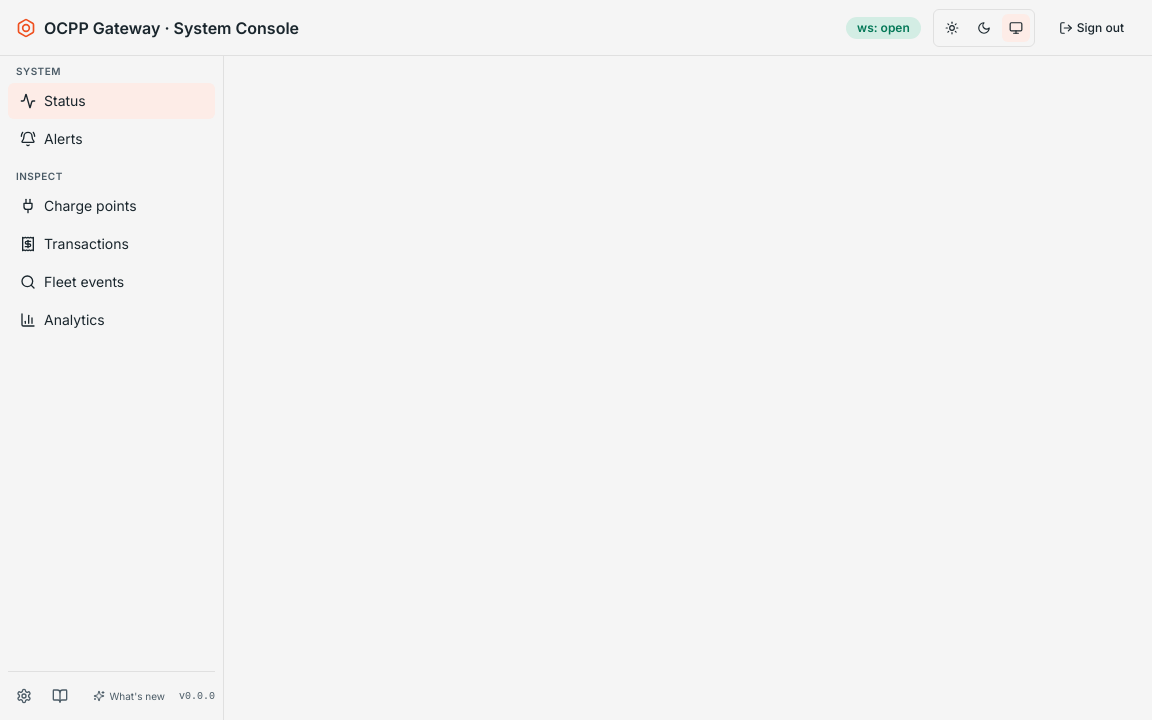
AppShell — sign-out confirmation › clicking Sign out opens the dialog without ending the session
The image size is (1152, 720).
Click the button with test id "signout-button". click: (1091, 28)
box: [1047,10,1136,46]
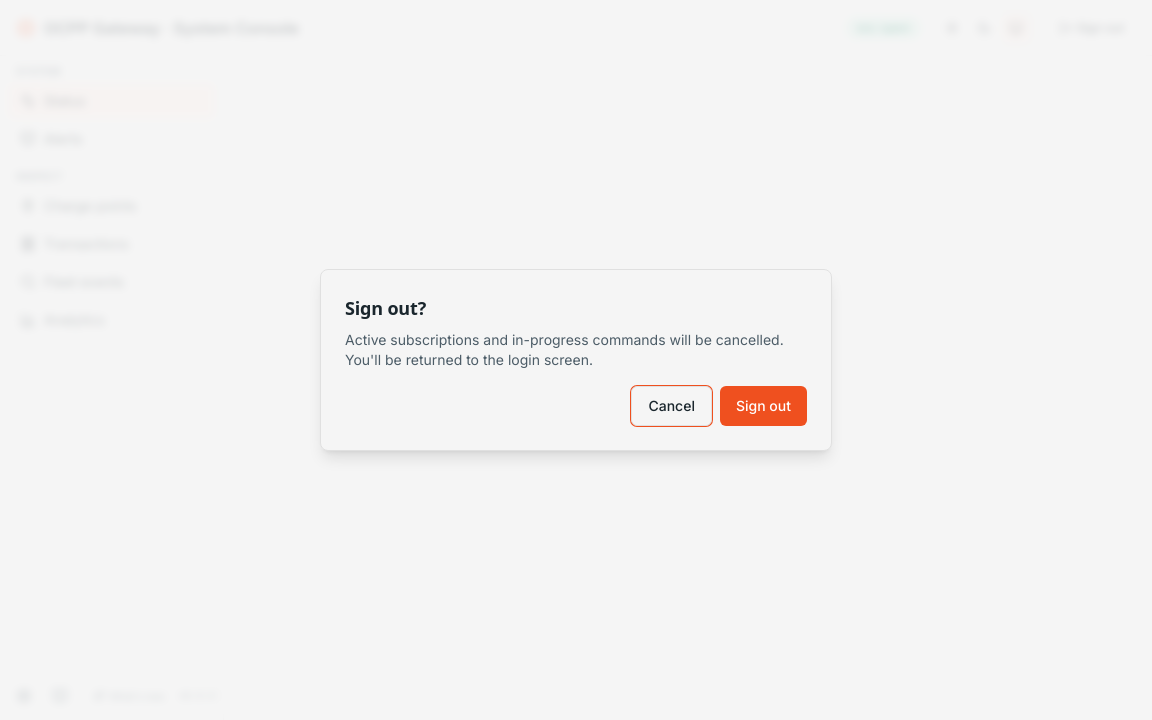
Expected: the dialog with test id "signout-dialog" is shown, [320,269,832,451]
Expected: the heading "Sign out?" is shown, [345,296,426,320]
